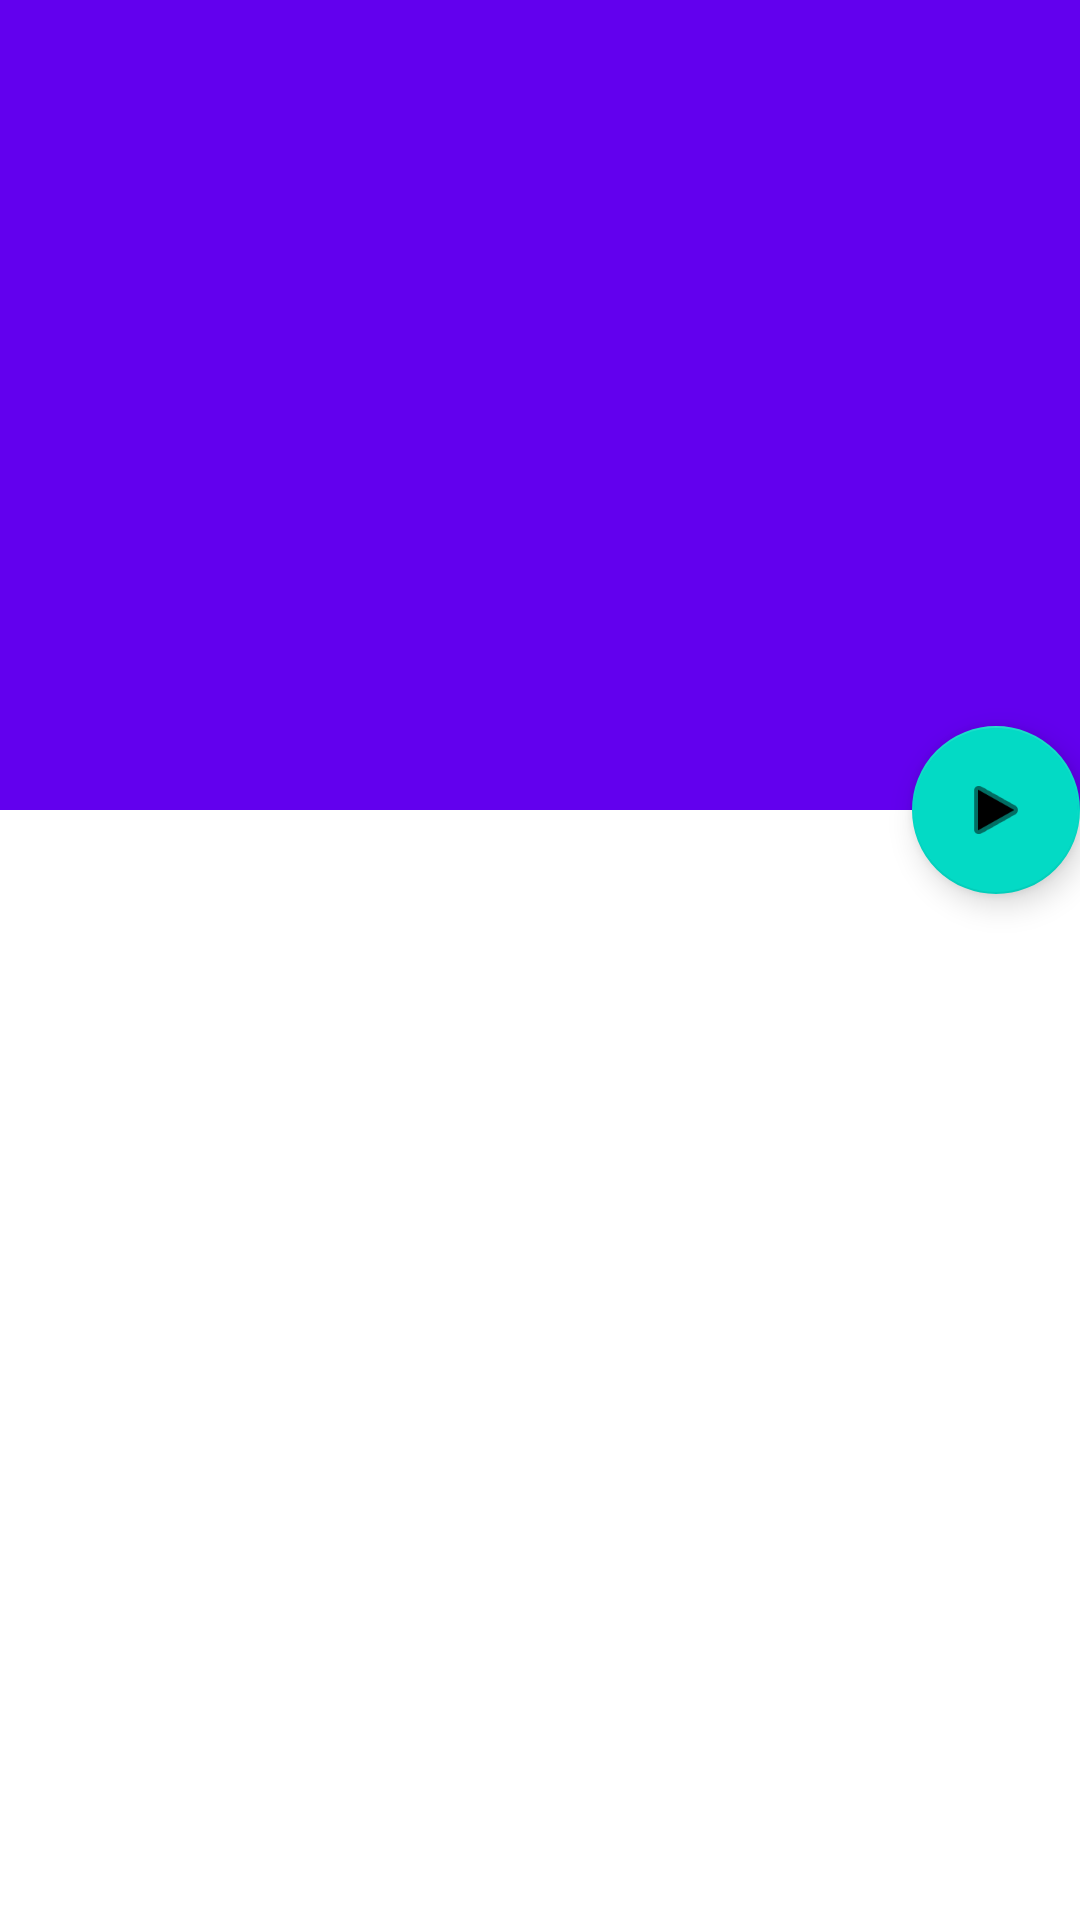

Point at icon controls on the screen. Image size 1080*1920, points as (x,y).
play: (996,810)
